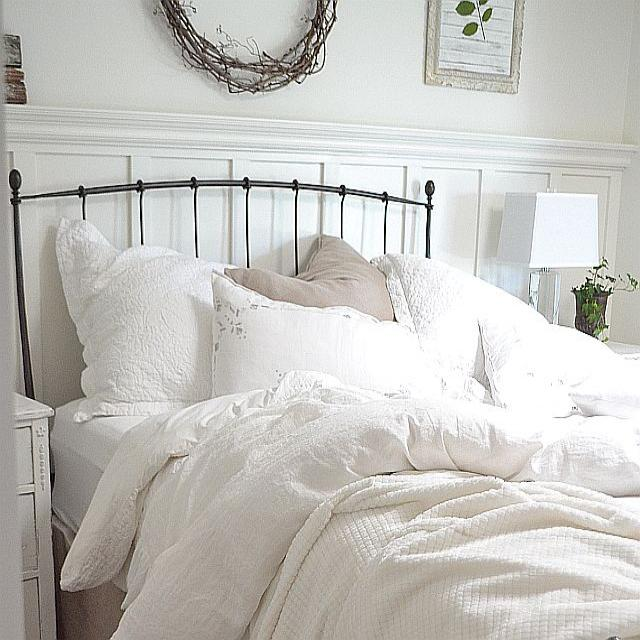bed: (35, 202, 639, 640)
